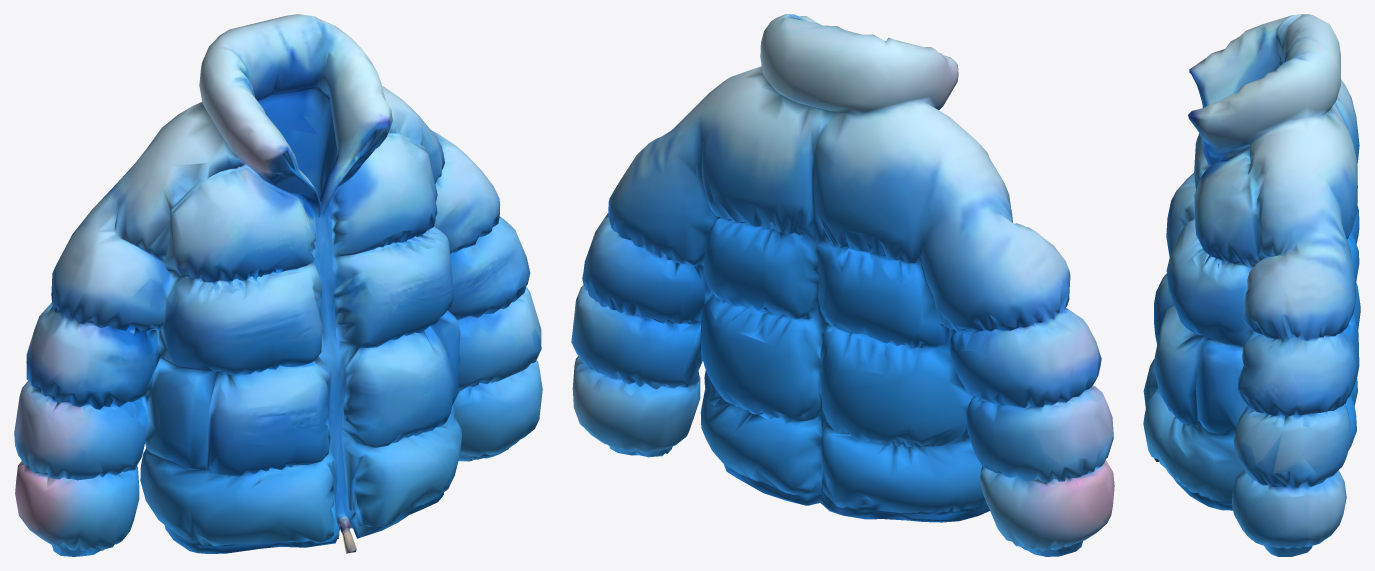
The model's file is card.glb.
3 renders of one model, left to right at view 1: azimuth 30°, elevation 25°; view 2: azimuth 150°, elevation 25°; view 3: azimuth 270°, elevation 25°, orthographic. The views are drawn at different scales.
Visible parts, largest first — view 1: model; view 2: model; view 3: model.
Part boxes in pixels (bbox=[...]): model: bbox=[14, 14, 542, 556]; model: bbox=[571, 14, 1114, 556]; model: bbox=[1143, 14, 1360, 556].
Bounding box in the file's own units: 2 × 1.76 × 0.8077.
Materials: 1 (1 with a texture image).
